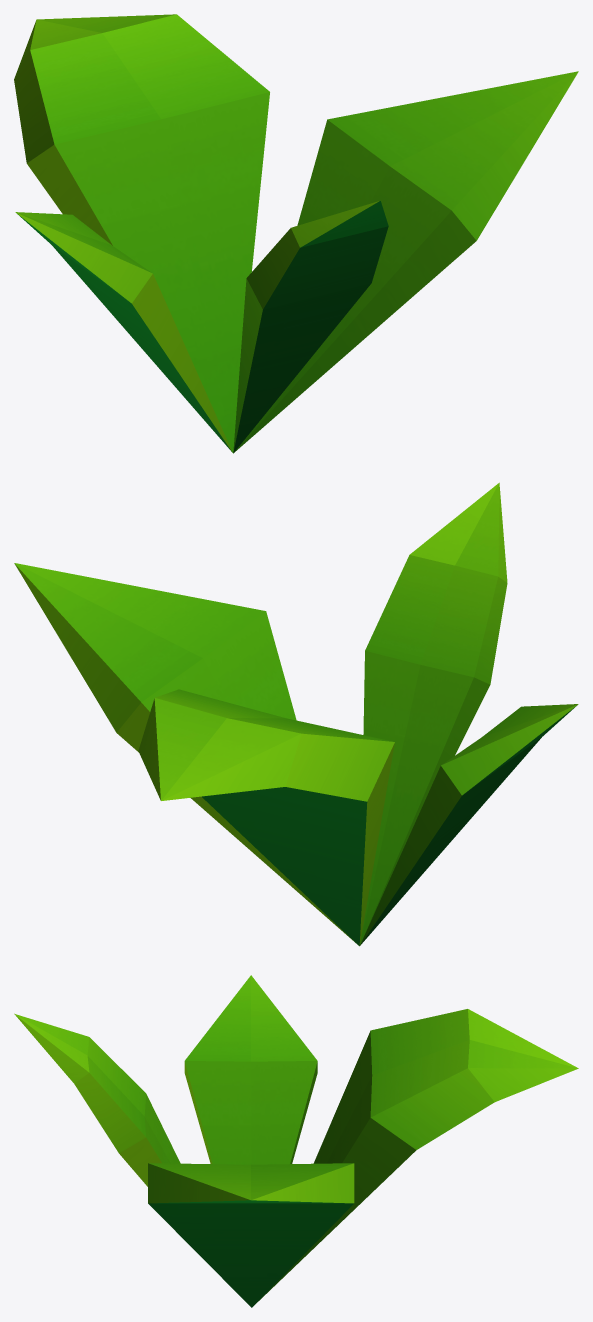
File: GL-Plant-03-LOD2.fbx
3 views of the same model, one above another, from view 1: azimuth 30°, elevation 25°; view 2: azimuth 150°, elevation 25°; view 3: azimuth 270°, elevation 25° (orthographic). The views are drawn at different scales.
Visible parts, largest first — view 1: GL_Plant_03; view 2: GL_Plant_03; view 3: GL_Plant_03.
Part boxes in pixels (x1=…): GL_Plant_03: x1=14, y1=14, x2=578, y2=453; GL_Plant_03: x1=14, y1=482, x2=578, y2=946; GL_Plant_03: x1=14, y1=975, x2=578, y2=1307.
Bounding box in the file's own units: 0.7562 × 0.4576 × 0.792.
